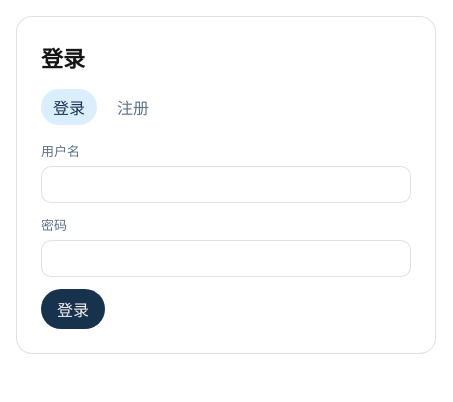
Test: 用户不存在时显示错误
Type "missing" into the field labelled "用户名" at (226, 184), box x1=41 y1=166 x2=411 y2=203
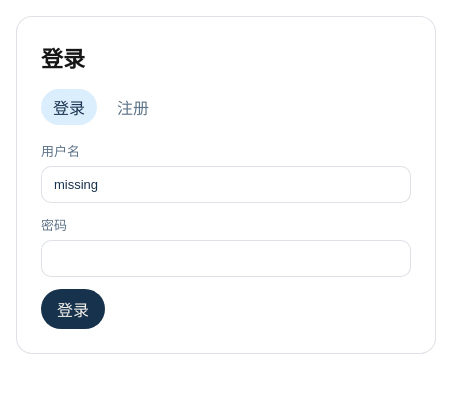
Type "secret" into the password field labelled "密码" at (226, 258), box x1=41 y1=240 x2=411 y2=277
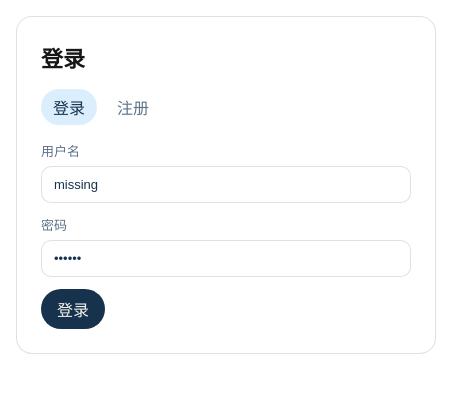
Click the button "登录" at (73, 309), box x1=41 y1=289 x2=105 y2=329
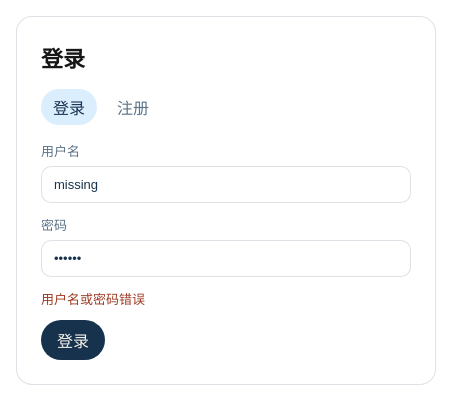
Now the text "用户名或密码错误" is shown, box x1=41 y1=292 x2=145 y2=307
